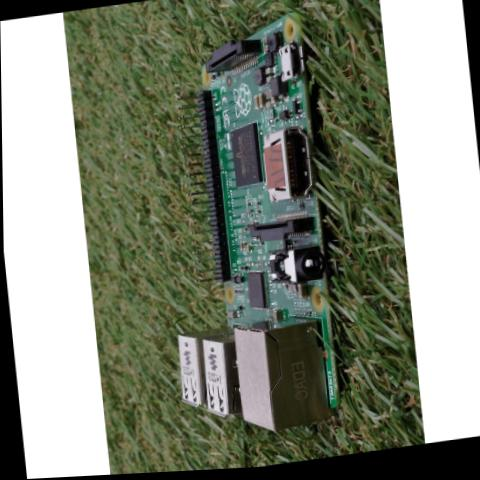Raspberry-Pi-2-Model-B: (124, 0, 361, 465)
